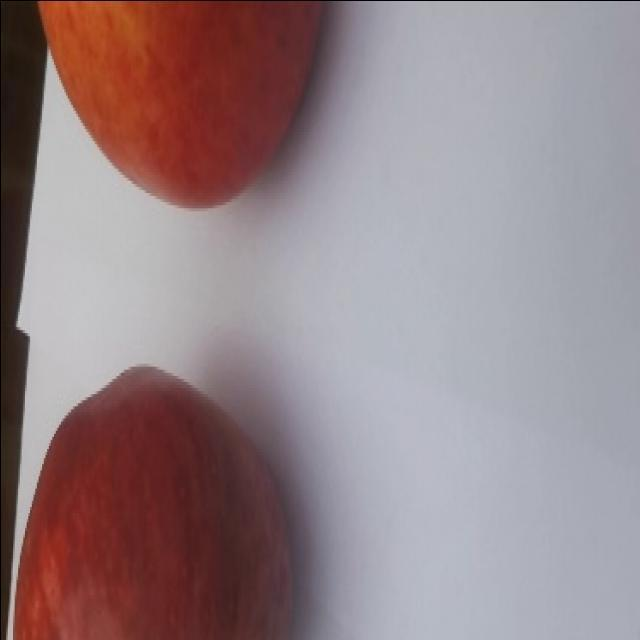Apple: (11, 363, 294, 639), (35, 0, 327, 210)
